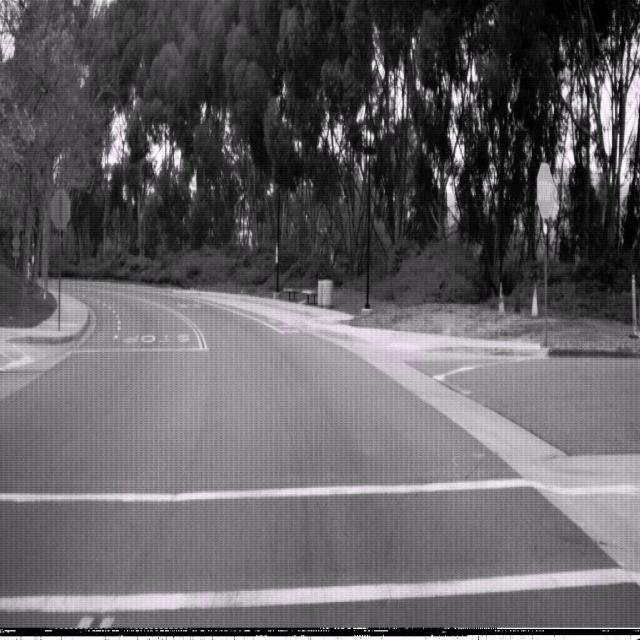stop: (536, 160, 554, 220)
